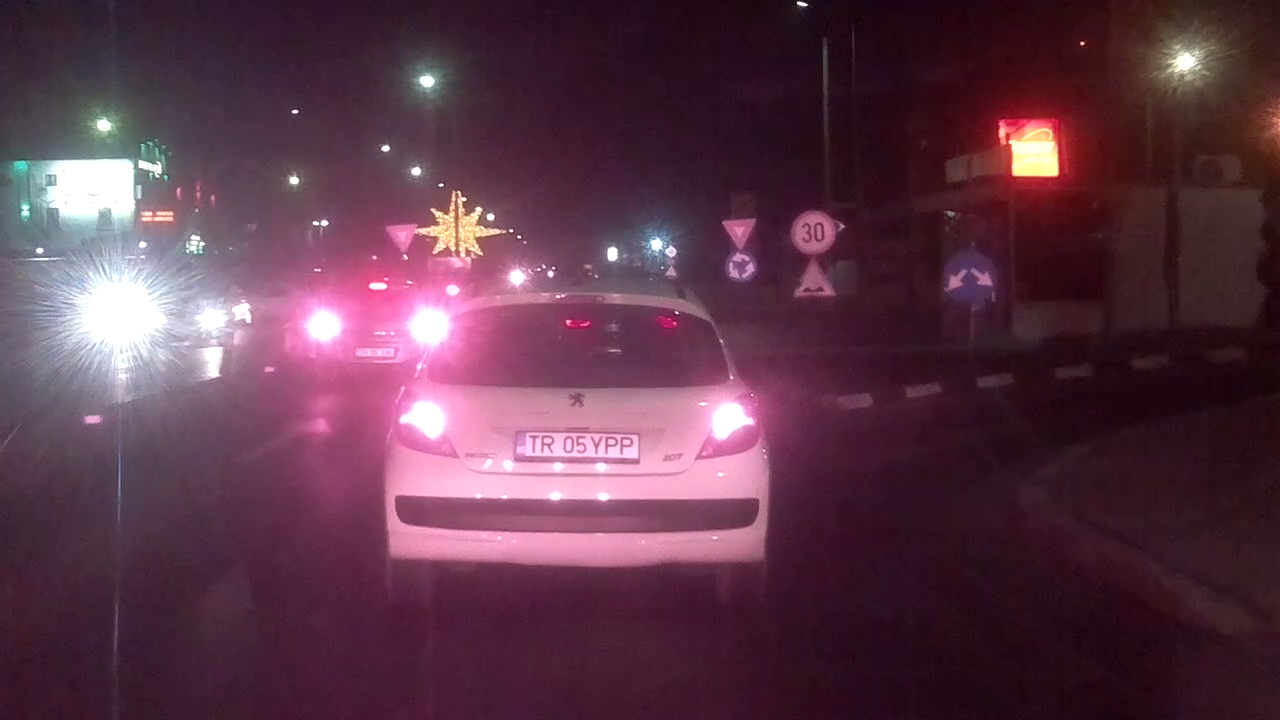license-plate: (510, 425, 643, 463)
